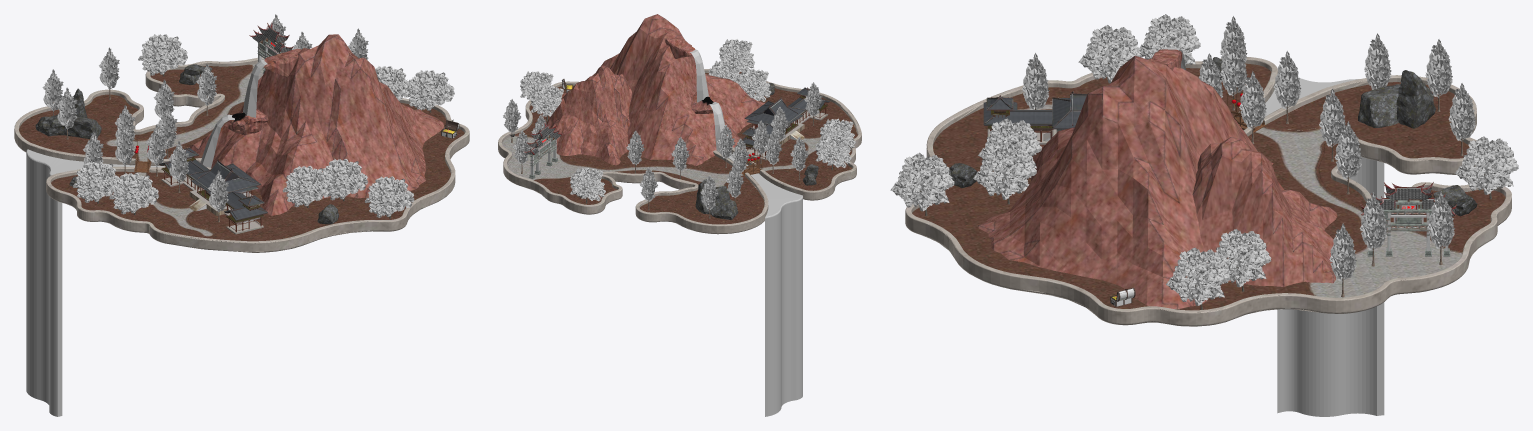
File: chinese_island.gltf
3 renders of one model, left to right at view 1: azimuth 30°, elevation 25°; view 2: azimuth 150°, elevation 25°; view 3: azimuth 270°, elevation 25°, orthographic. The views are drawn at different scales.
Visible parts, largest first — view 1: G-__560991.001, mountain, AM113_021_Populus_Defintion.023, water, G-__555564, G-__561009.001, G-__560982, G-__566058, G-__560964; view 2: mountain, G-__560991.001, AM113_021_Populus_Defintion.023, water, G-__555564, G-__561009.001, G-__560964, G-__560982; view 3: mountain, G-__560991.001, AM113_021_Populus_Defintion.023, water, G-__555564, G-__561009.001, G-__560946, G-__566058.
Boxes of the visible parts, box(x1,y1,x2,y2) form: G-__560991.001: box(14, 57, 469, 252); mountain: box(189, 34, 443, 215); AM113_021_Populus_Defintion.023: box(42, 14, 454, 222); water: box(26, 59, 267, 416); G-__555564: box(159, 147, 267, 234); G-__561009.001: box(249, 21, 293, 70); G-__560982: box(227, 109, 268, 134); G-__566058: box(63, 117, 101, 138); G-__560964: box(35, 114, 64, 136); mountain: box(546, 14, 764, 166); G-__560991.001: box(498, 68, 861, 234); AM113_021_Populus_Defintion.023: box(503, 39, 855, 218); water: box(689, 49, 802, 416); G-__555564: box(741, 87, 830, 160); G-__561009.001: box(523, 122, 563, 175); G-__560964: box(711, 198, 738, 219); G-__560982: box(691, 93, 715, 113); mountain: box(976, 49, 1337, 308); G-__560991.001: box(905, 57, 1511, 326); AM113_021_Populus_Defintion.023: box(890, 14, 1518, 309); water: box(1163, 47, 1384, 416); G-__555564: box(983, 91, 1087, 144); G-__561009.001: box(1360, 182, 1456, 250); G-__560946: box(1396, 70, 1435, 128); G-__566058: box(1358, 85, 1400, 127).
Size of the model in its own units: 60.19 by 54.15 by 61.
